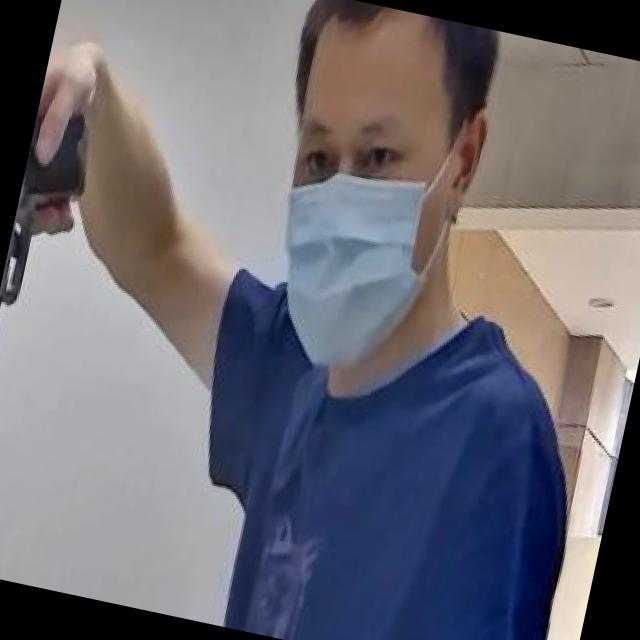Guns: (0, 24, 133, 469)
